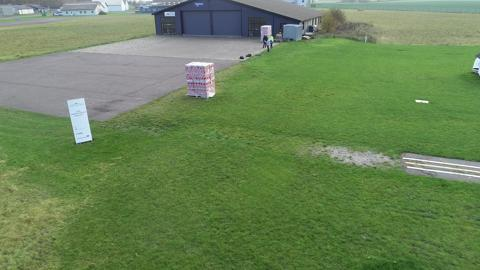RockwoolPallet: (261, 24, 273, 43)
